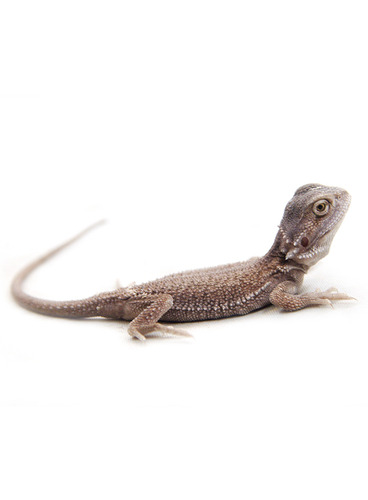bearded: (10, 182, 357, 346)
